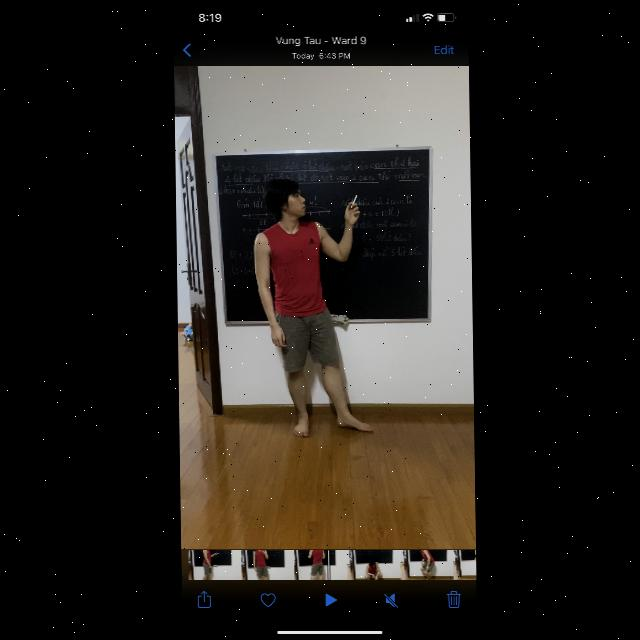cigarette: (350, 195, 357, 208)
